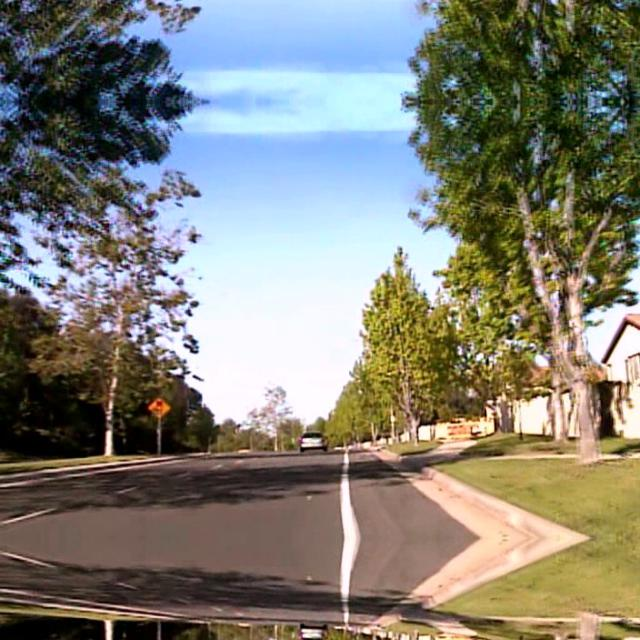signalAhead: (146, 394, 172, 416)
